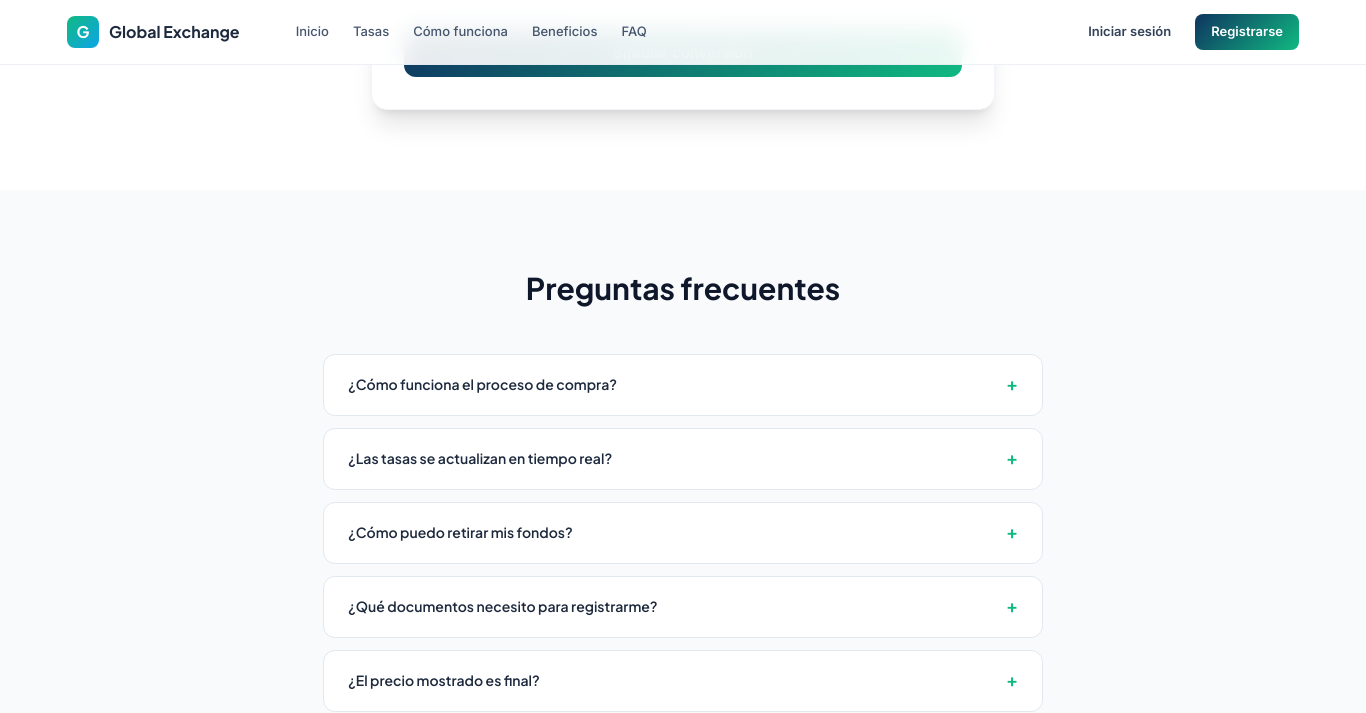
Test: Landing (página pública) › despliega la respuesta de una pregunta frecuente
(page scrolled)
Click the button "¿Cómo funciona el proceso de compra? +" at (483, 384), box x1=324 y1=355 x2=1042 y2=415
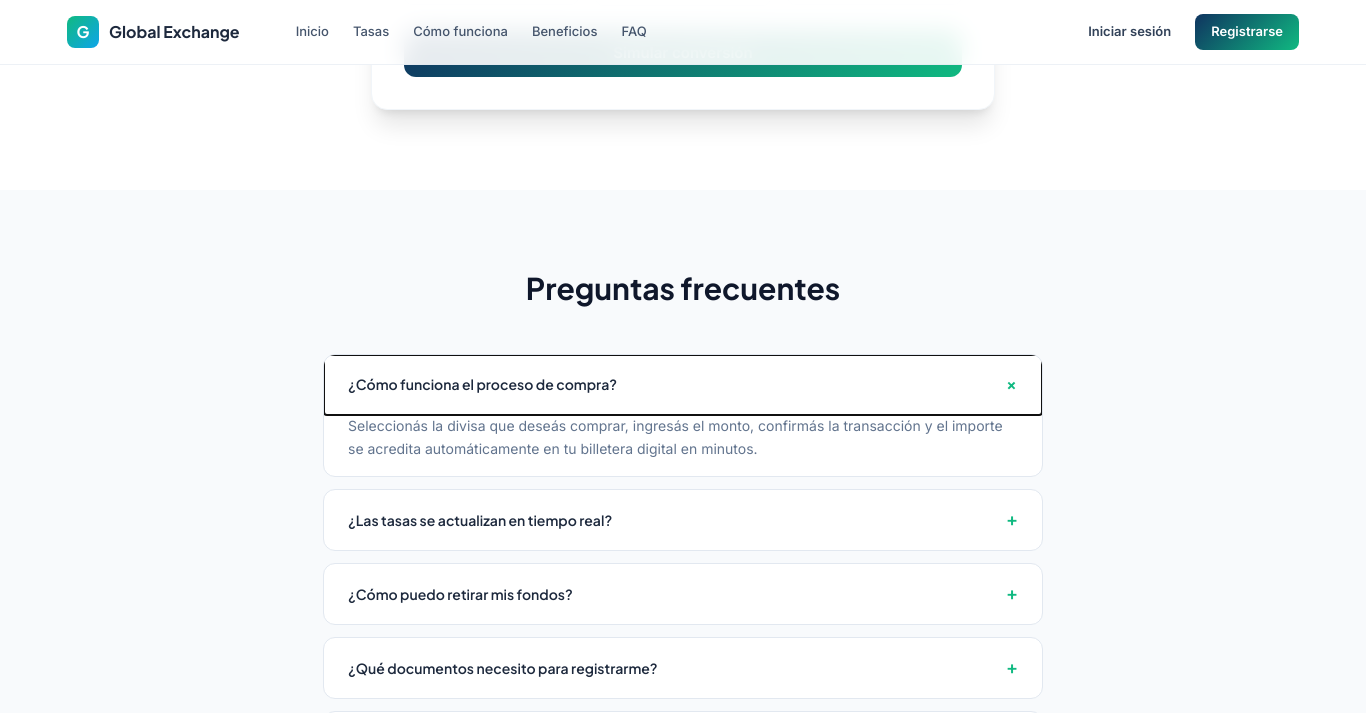
Now the text "Seleccionás la divisa que deseás comprar" is shown, box x1=348 y1=417 x2=1003 y2=457
